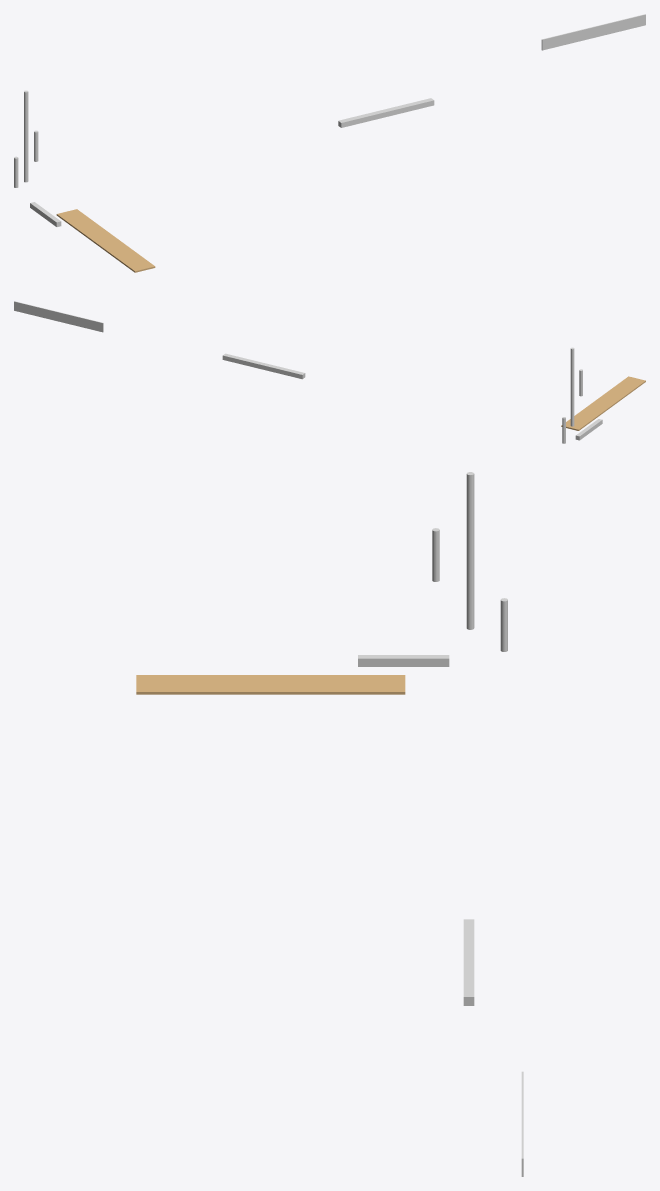
File: cureve.glb
The picture shows the model from 3 angles, top to bottom: view 1: azimuth 30°, elevation 25°; view 2: azimuth 150°, elevation 25°; view 3: azimuth 270°, elevation 25°; orthographic projection. The views are drawn at different scales.
Parts seen in each view (by area): view 1: Plane.006, Cube.005, Cube.000, Cylinder.002; view 2: Plane.006, Cube.005, Cube.000, Cylinder.002; view 3: Plane.006, Cylinder.002, Cube.001, Cube.000.
Boxes of the visible parts, left/top/right/bottom form: Plane.006: left=56, top=209, right=155, bottom=272; Cube.005: left=541, top=14, right=645, bottom=50; Cube.000: left=338, top=98, right=434, bottom=127; Cylinder.002: left=24, top=90, right=28, bottom=182; Plane.006: left=561, top=376, right=645, bottom=430; Cube.005: left=14, top=301, right=103, bottom=332; Cube.000: left=222, top=353, right=305, bottom=379; Cylinder.002: left=570, top=347, right=574, bottom=426; Plane.006: left=136, top=675, right=405, bottom=694; Cylinder.002: left=466, top=472, right=474, bottom=629; Cube.001: left=358, top=655, right=449, bottom=666; Cube.000: left=463, top=919, right=474, bottom=1005.
Bounding box in the file's own units: 68.8 × 11.67 × 21.1.
